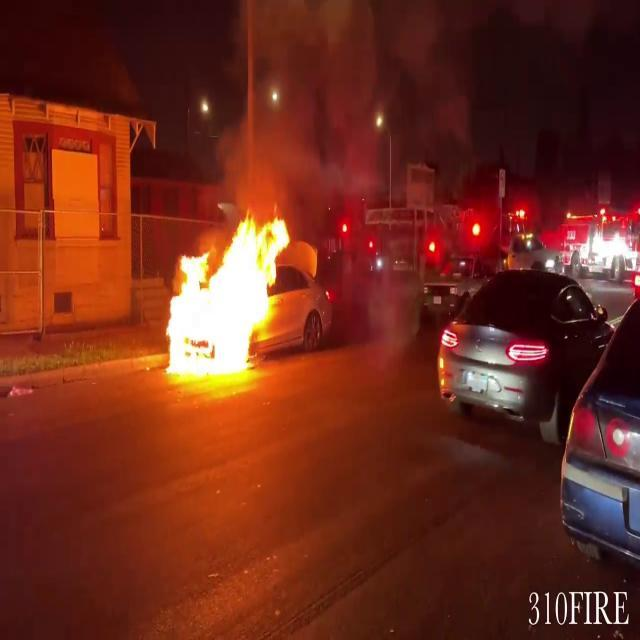Fire: (158, 204, 292, 388)
Smoke: (212, 0, 388, 209)
